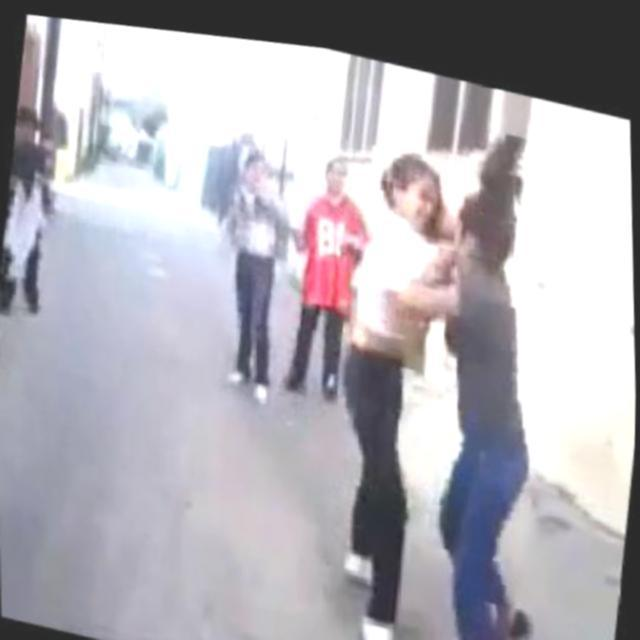fight: (310, 87, 552, 640)
